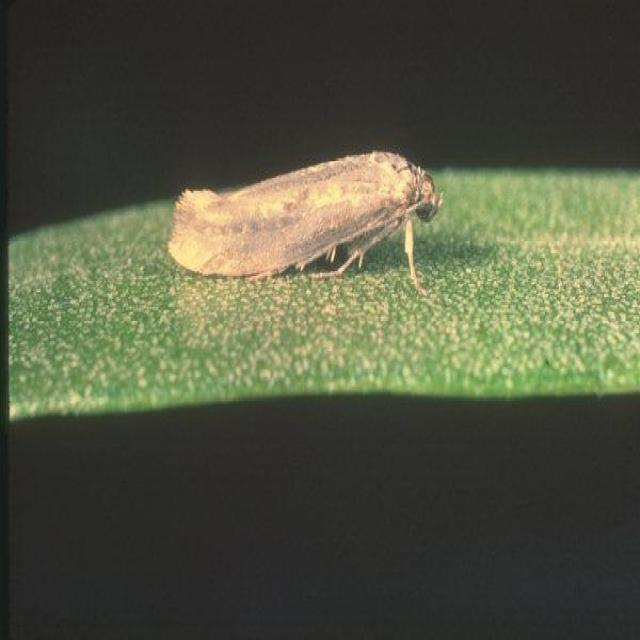yellow-stem-borer: (143, 124, 485, 320)
